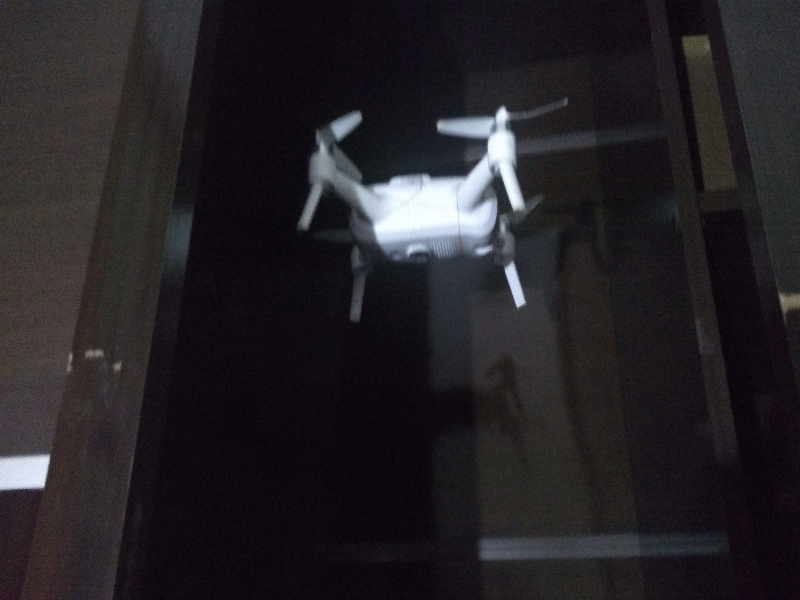drone: (284, 89, 566, 327)
